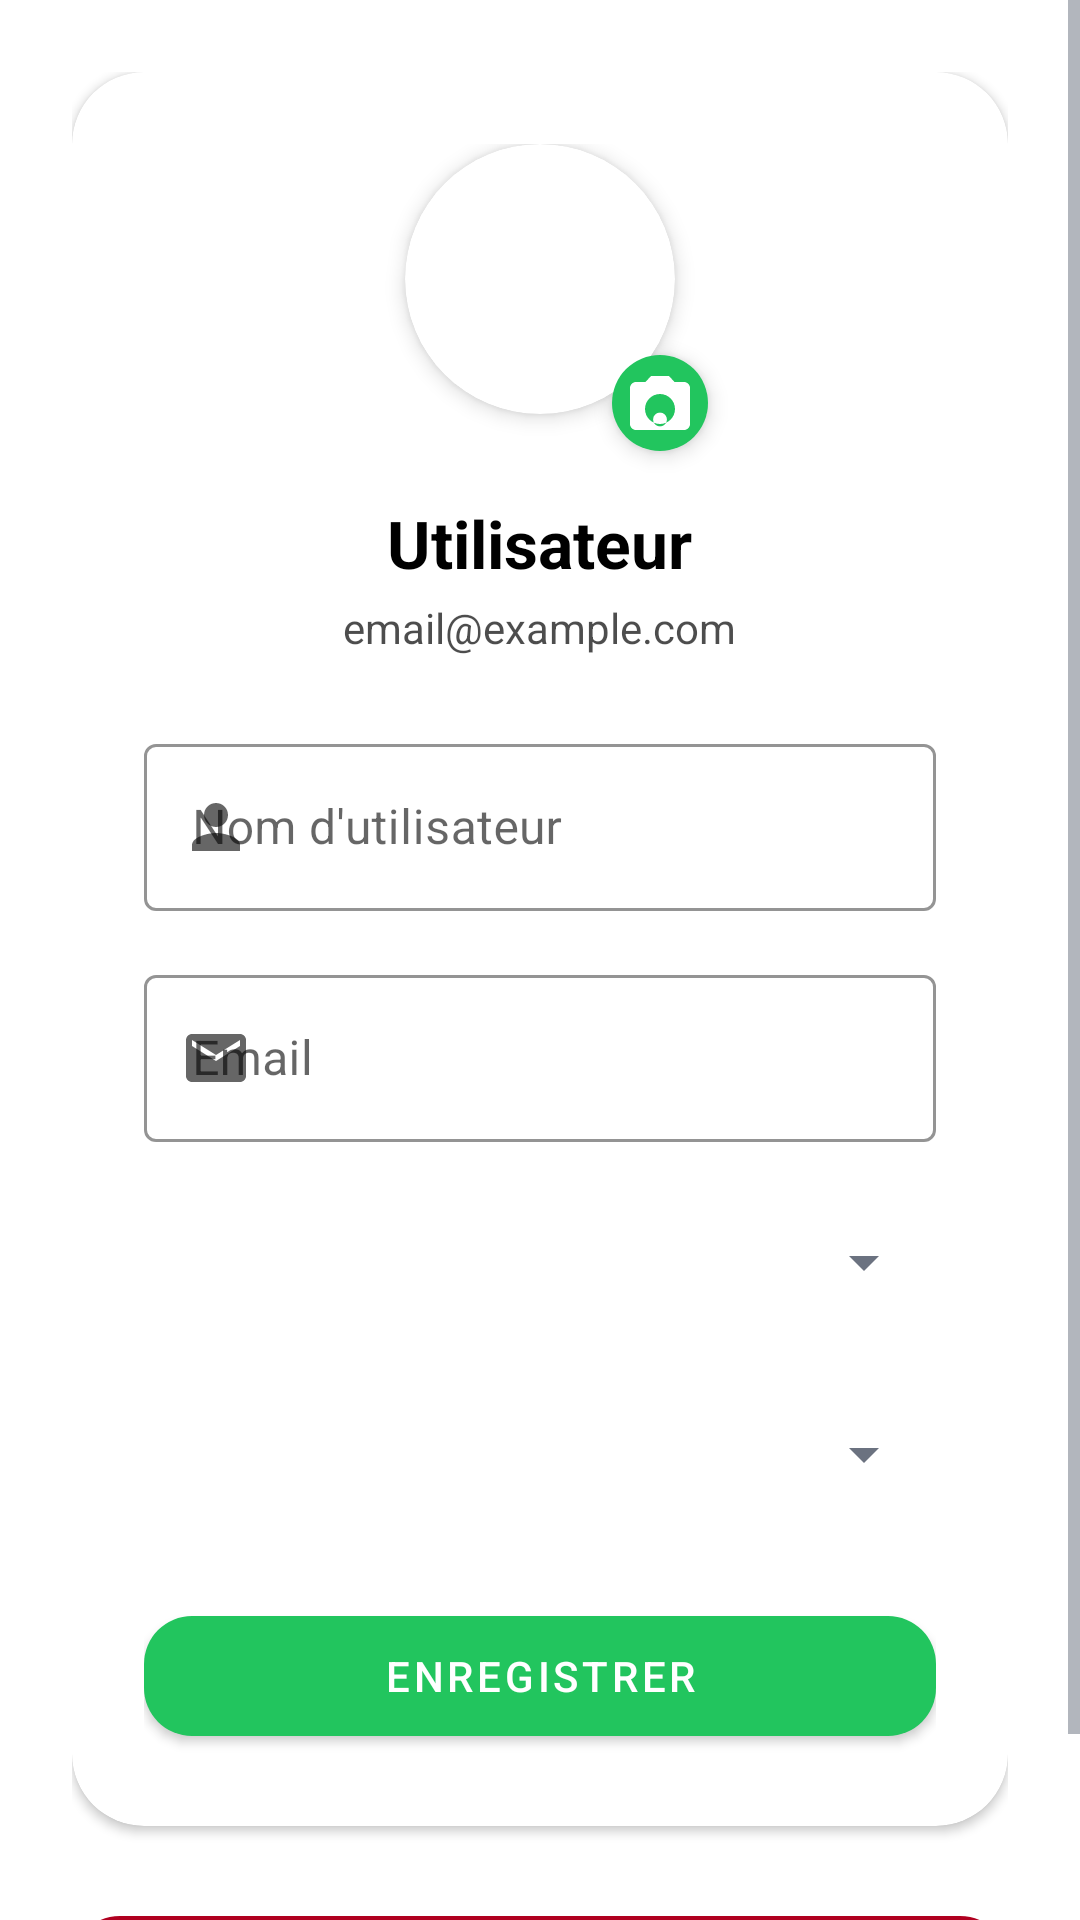

Icons on this 1080px x 1920px Android screen, each with its box as Rect(x1, y1, x2, y2):
photo camera: Rect(612, 355, 708, 451)
